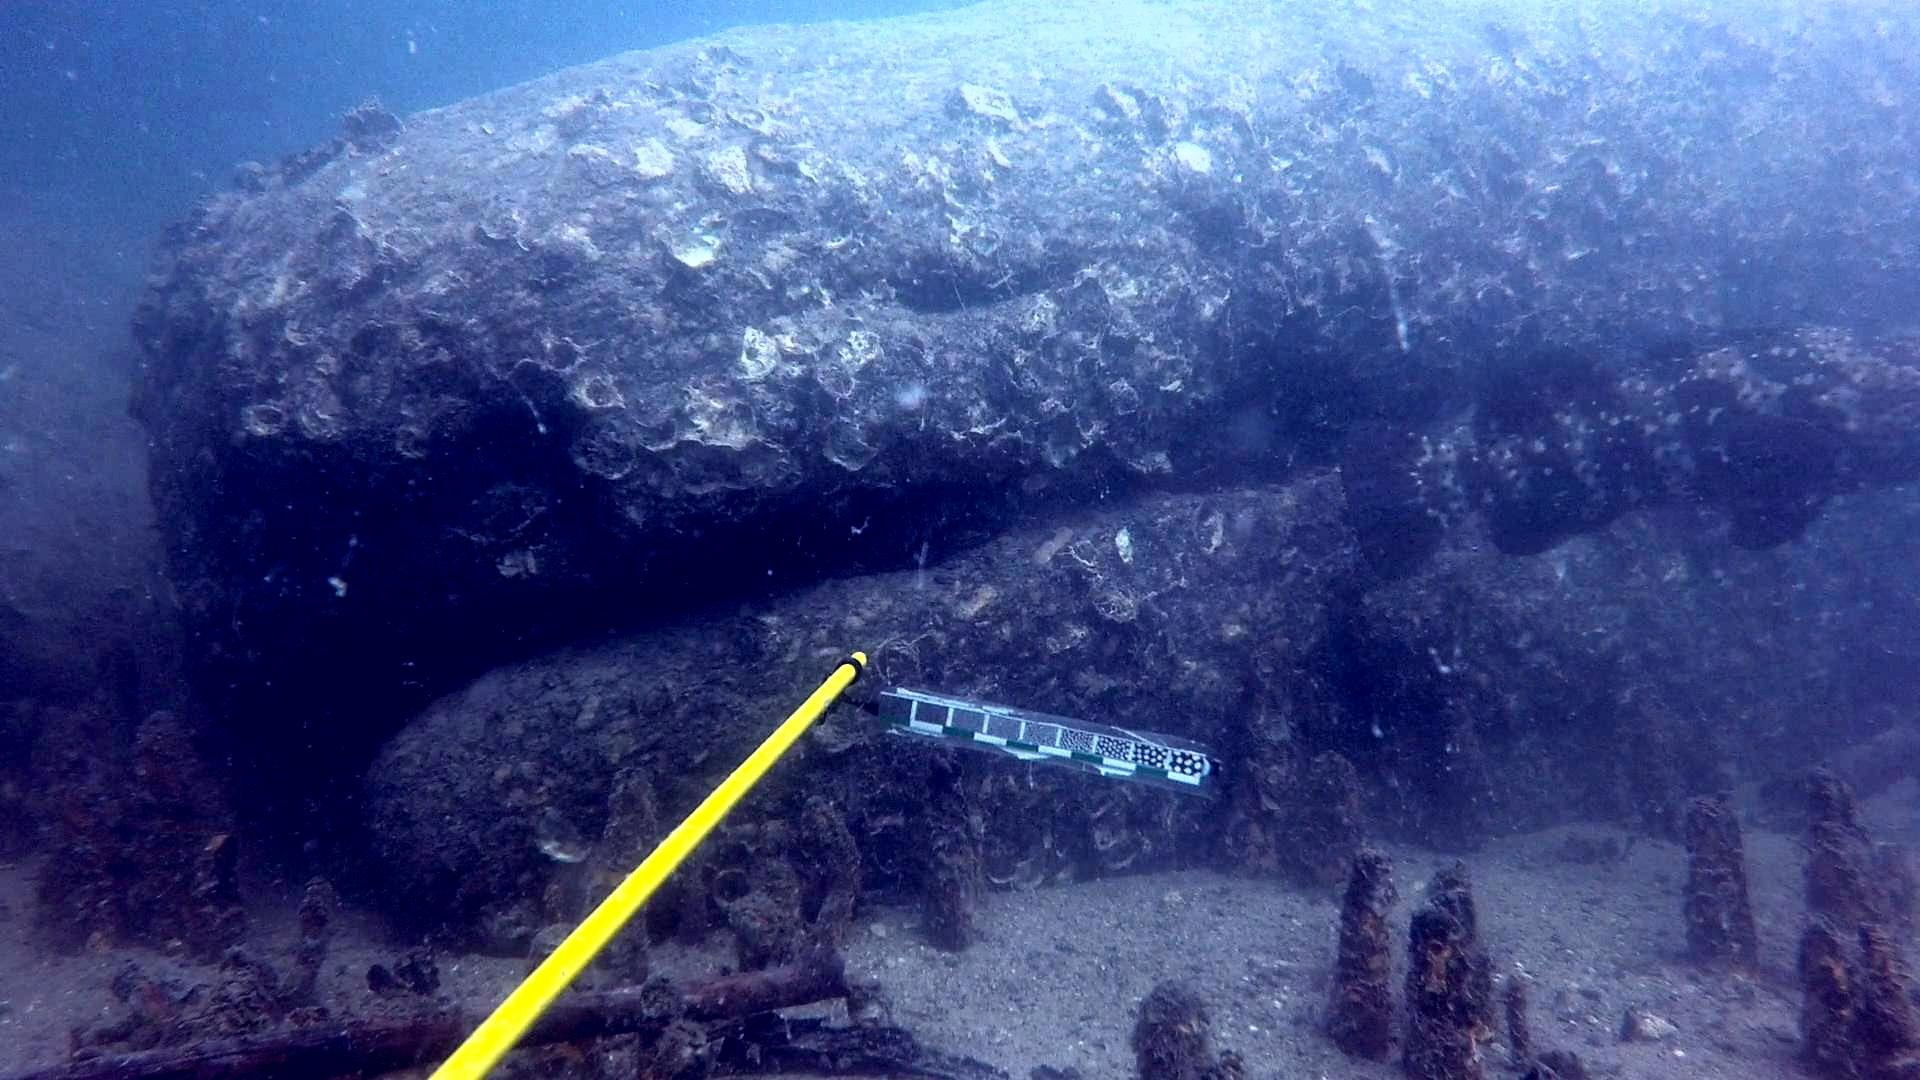epinephelus: (1333, 315, 1920, 591)
